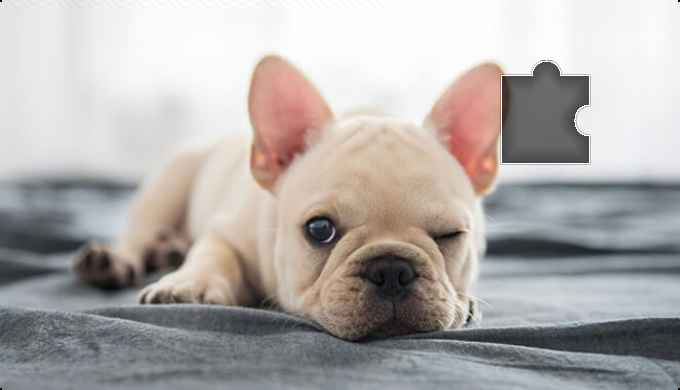gap: (501, 61, 590, 165)
